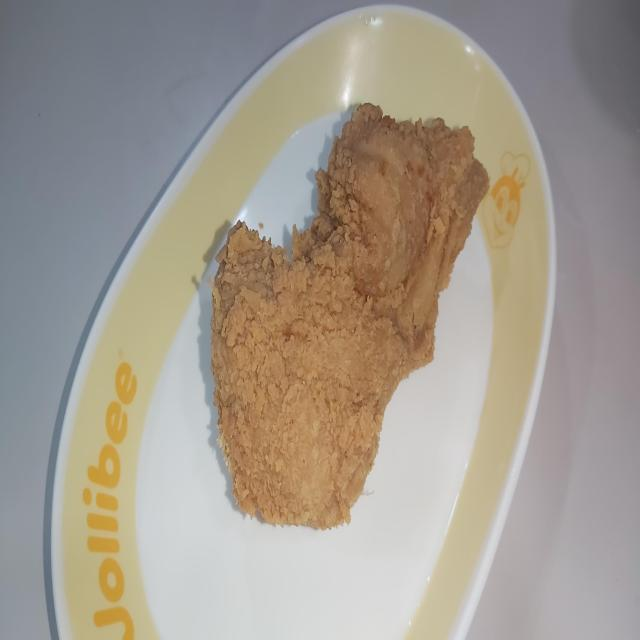Chicken -Fried Chicken-: (194, 89, 476, 537)
